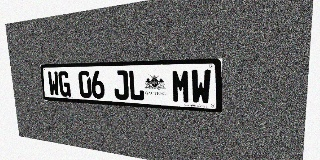0: (78, 71, 92, 98)
6: (90, 71, 105, 99)
G: (58, 71, 71, 97)
J: (113, 70, 129, 100)
L: (128, 70, 145, 101)
M: (171, 69, 190, 104)
W: (191, 69, 211, 105), (47, 71, 60, 96)
